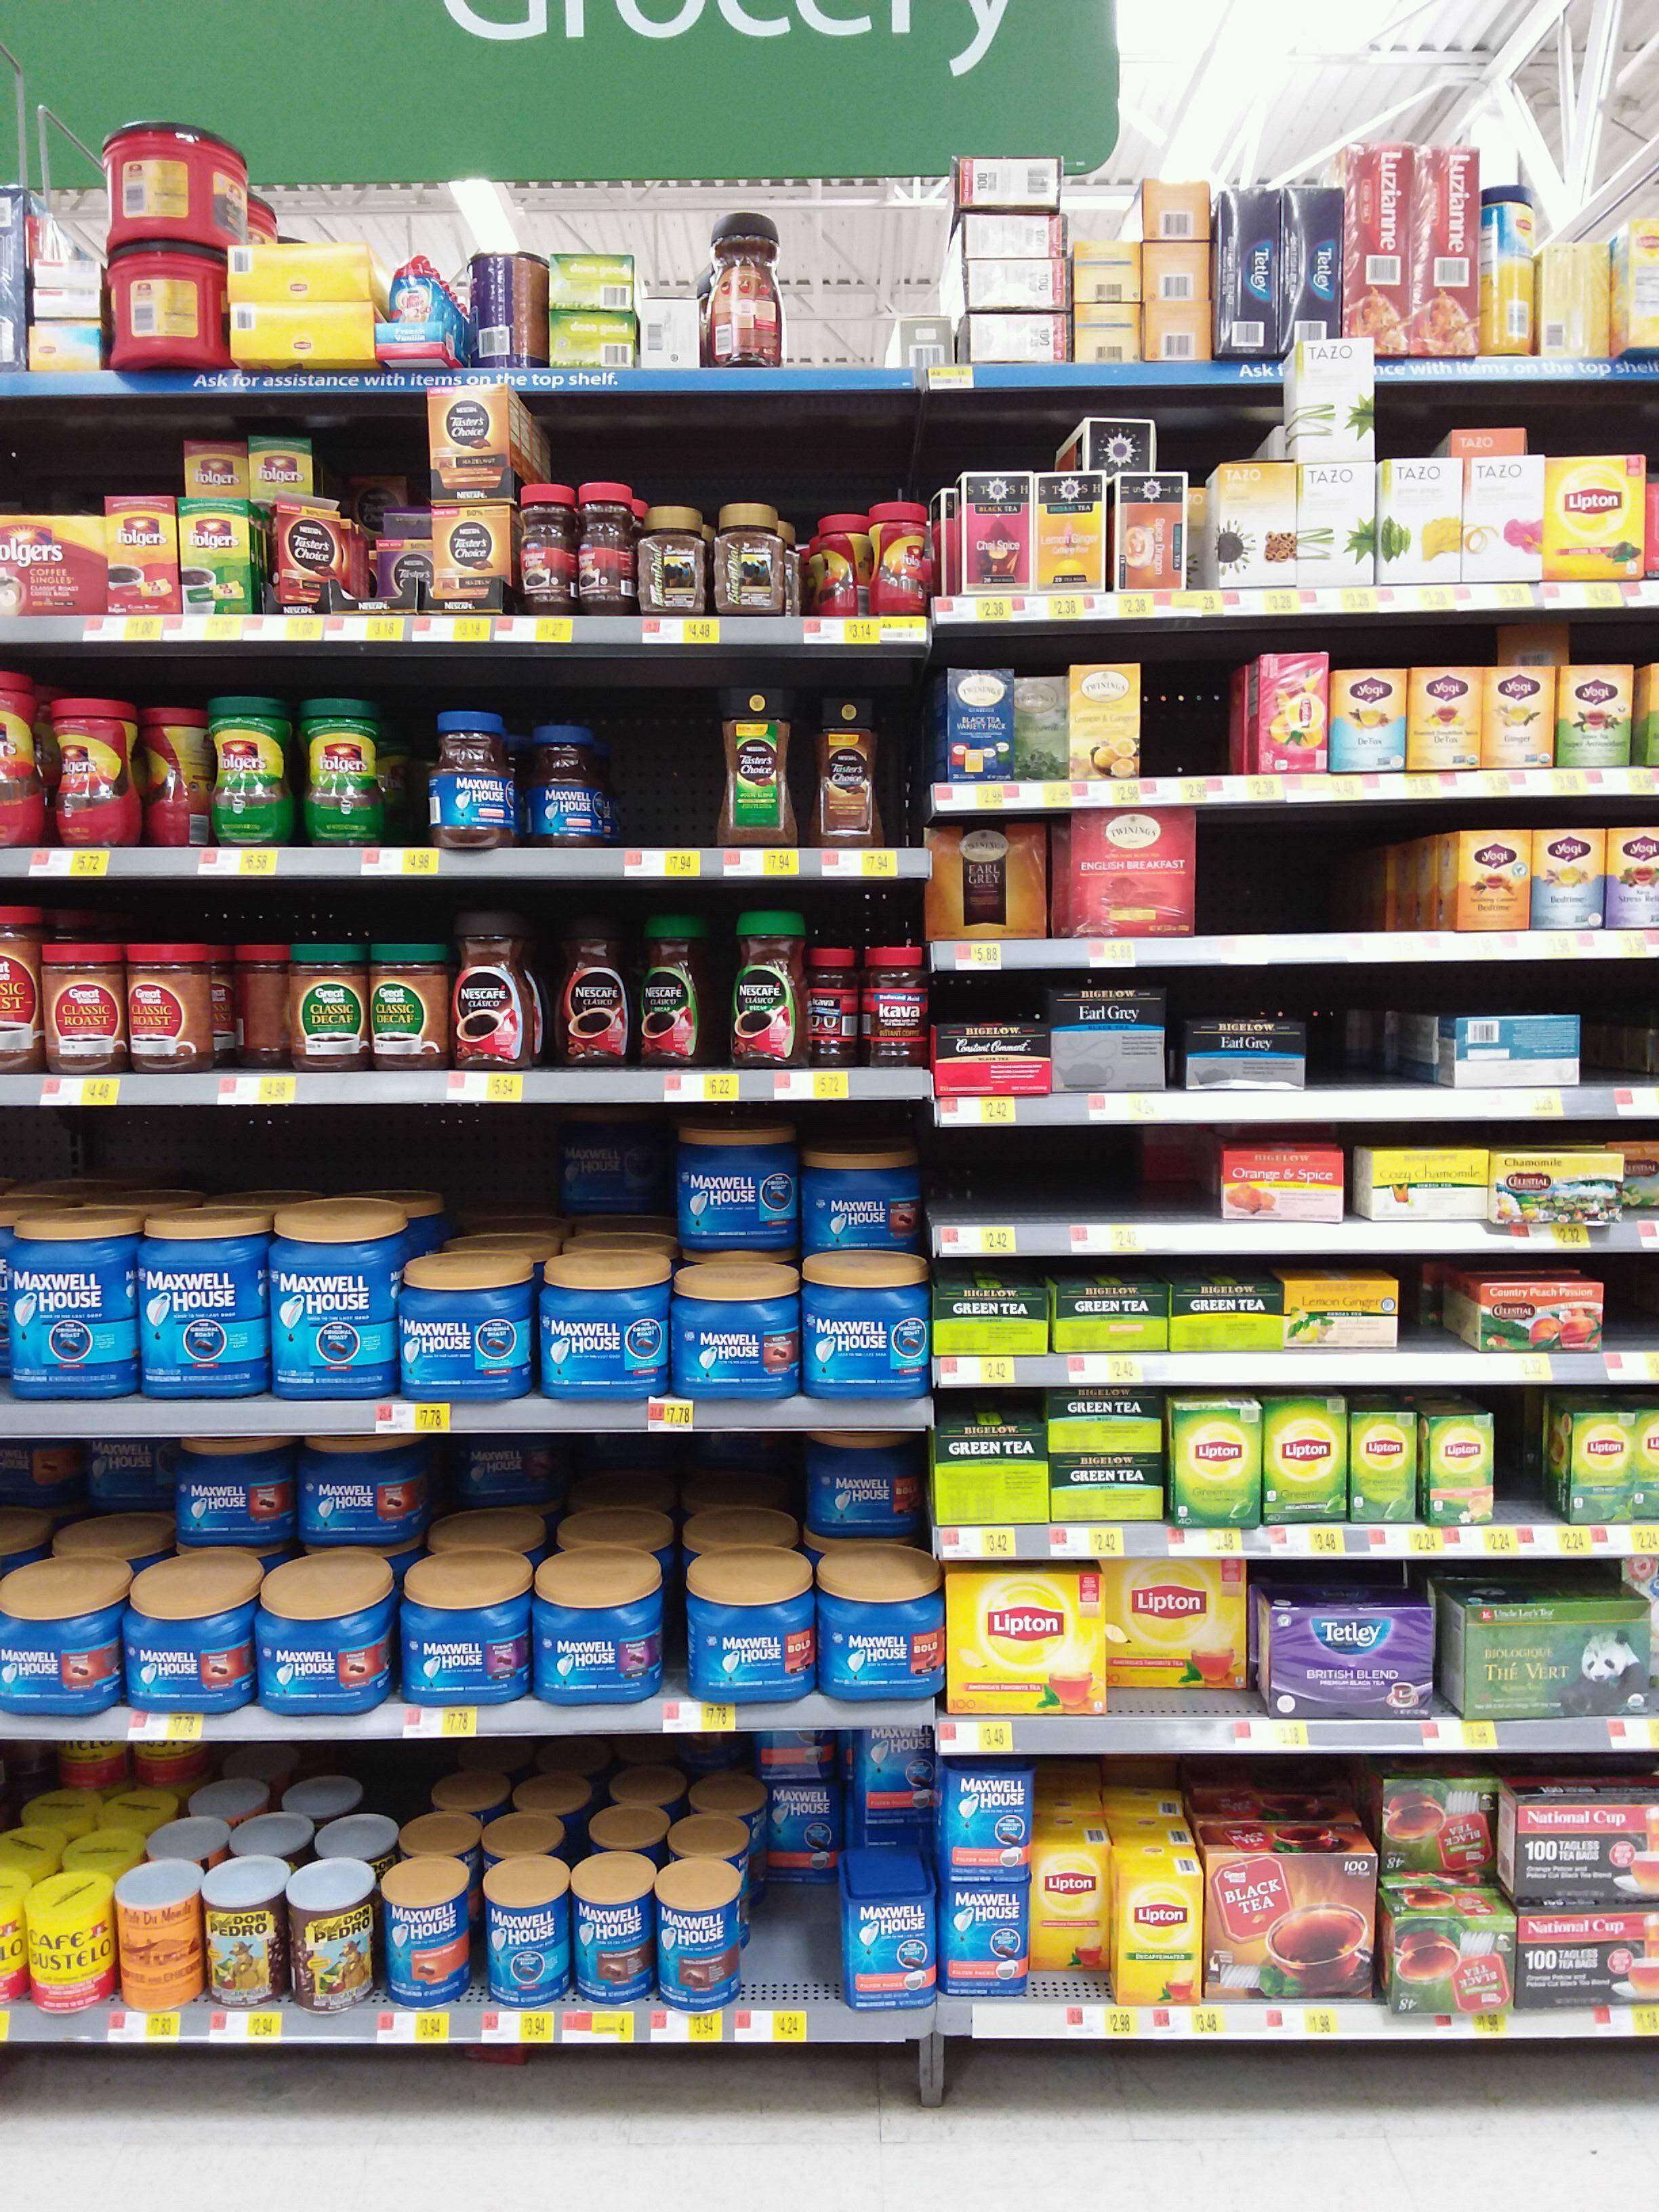empty: (613, 714, 723, 850), (744, 1864, 828, 1998), (782, 233, 866, 368), (1147, 664, 1236, 773), (1197, 826, 1286, 935), (1288, 826, 1377, 935), (1324, 984, 1412, 1094), (633, 237, 699, 362), (951, 1134, 1039, 1224), (1134, 1130, 1222, 1219), (1042, 1132, 1129, 1221), (1584, 982, 1659, 1085)
